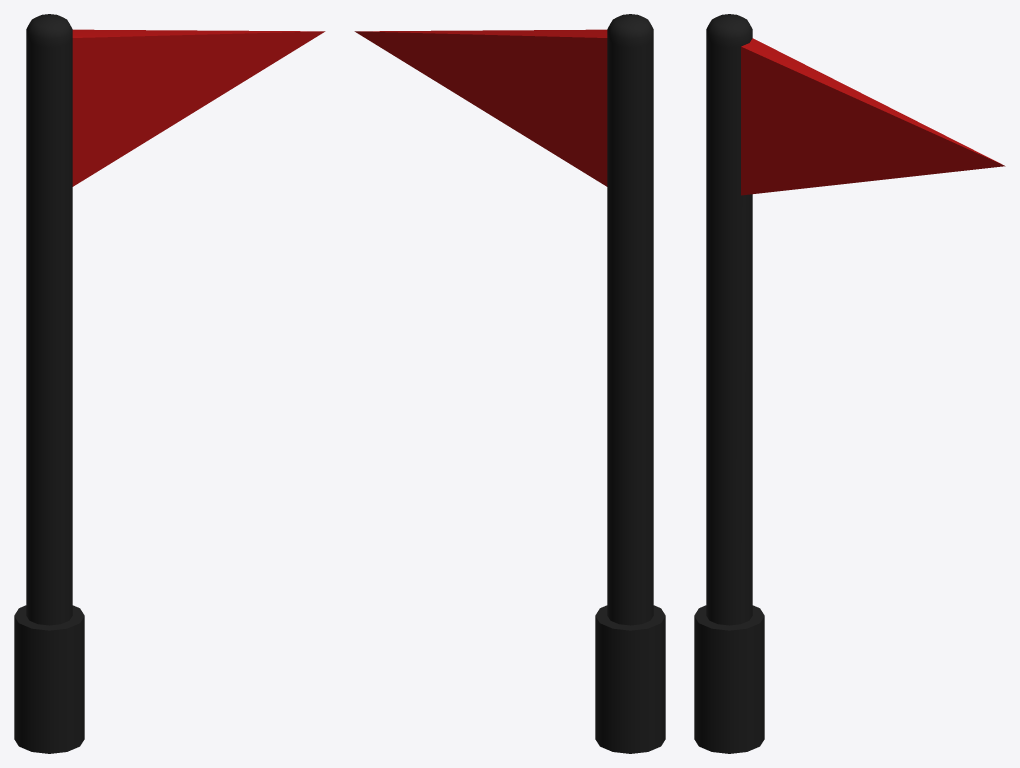
File: Castle_flag.fbx
3 renders of one model, left to right at view 1: azimuth 30°, elevation 25°; view 2: azimuth 150°, elevation 25°; view 3: azimuth 330°, elevation 25°, orthographic.
Visible parts, largest first — view 1: bayrak; view 2: bayrak; view 3: bayrak.
Boxes of the visible parts, left/top/right/bottom form: bayrak: left=14, top=14, right=325, bottom=753; bayrak: left=354, top=14, right=665, bottom=753; bayrak: left=694, top=14, right=1005, bottom=753.
Size of the model in its own units: 2 by 4.48 by 0.3976.
